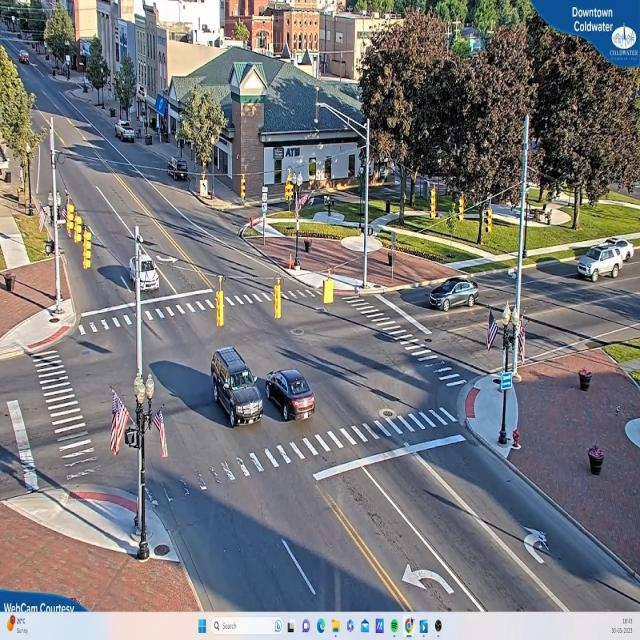car: (210, 348, 265, 427), (264, 367, 316, 422), (576, 244, 630, 281), (430, 281, 480, 313), (117, 122, 137, 144)
